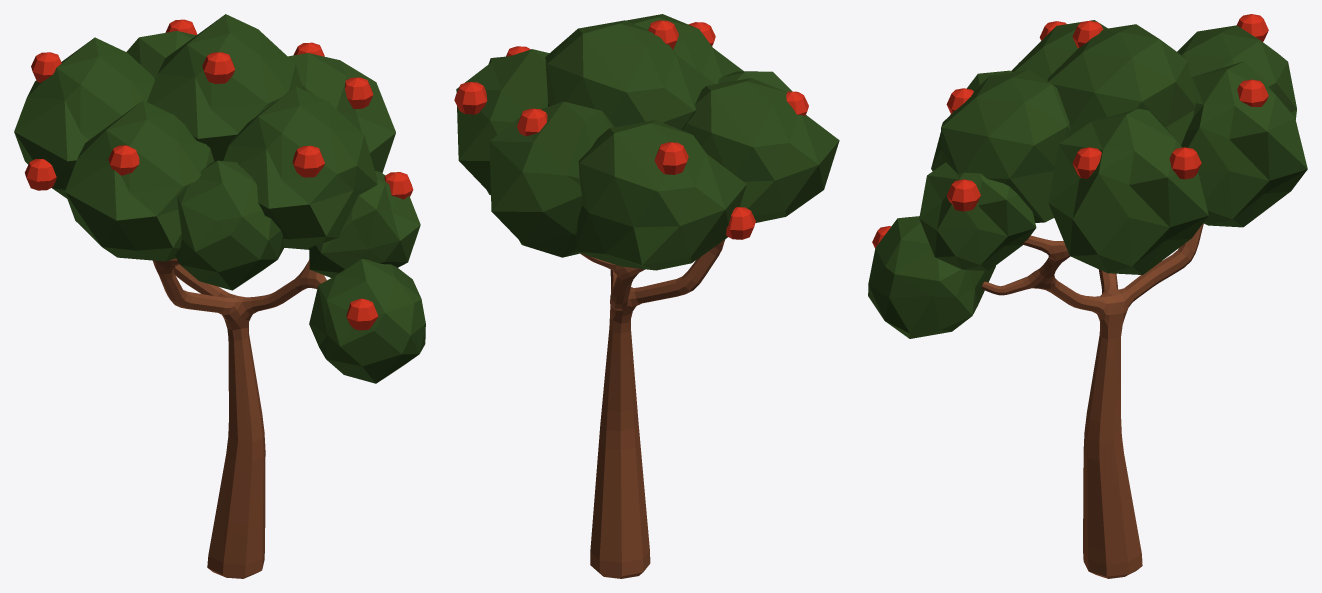
The model's file is Tree_2.glb.
3 views of the same model, side by side, from view 1: azimuth 30°, elevation 25°; view 2: azimuth 150°, elevation 25°; view 3: azimuth 270°, elevation 25° (orthographic). The views are drawn at different scales.
Parts seen in each view (by area): view 1: Tree 2; view 2: Tree 2; view 3: Tree 2.
Boxes of the visible parts, left/top/right/bottom form: Tree 2: left=14, top=14, right=425, bottom=578; Tree 2: left=454, top=14, right=839, bottom=578; Tree 2: left=868, top=14, right=1307, bottom=578.
Size of the model in its own units: 2.87 by 4.58 by 3.39.
